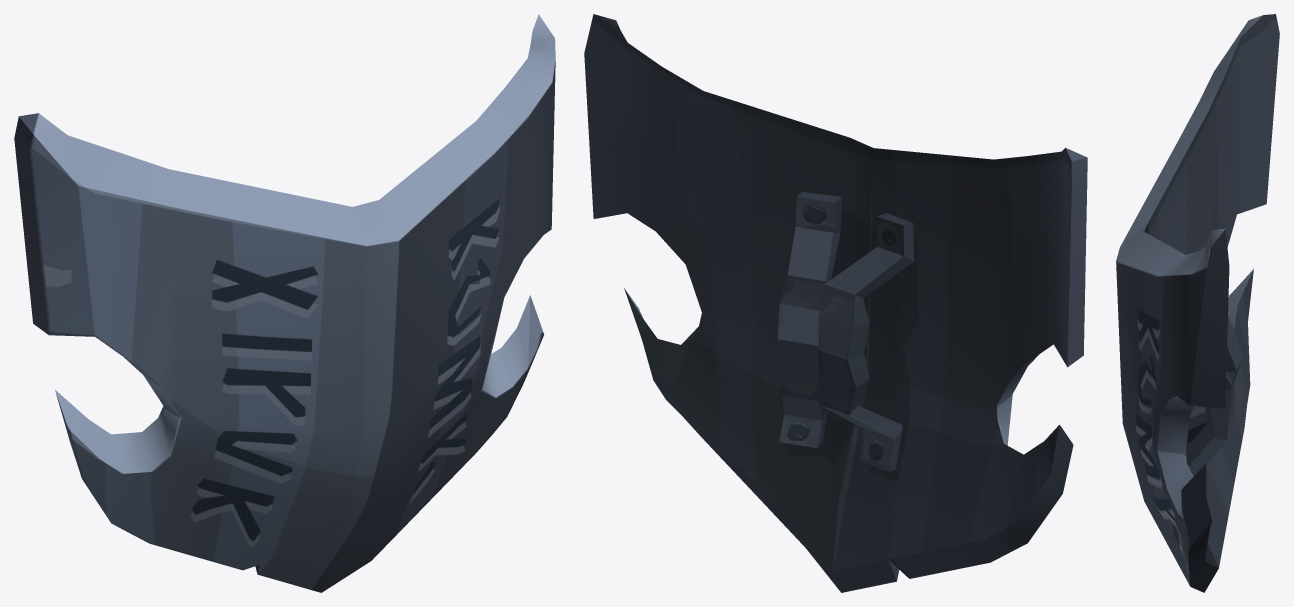
Rendered from Rune_05.FBX.
The picture shows the model from 3 angles, left to right: view 1: azimuth 30°, elevation 25°; view 2: azimuth 150°, elevation 25°; view 3: azimuth 270°, elevation 25°; orthographic projection. The views are drawn at different scales.
Visible parts, largest first — view 1: Rune_05; view 2: Rune_05; view 3: Rune_05.
Boxes of the visible parts, bbox=[...] form: Rune_05: bbox=[14, 14, 555, 592]; Rune_05: bbox=[584, 14, 1087, 592]; Rune_05: bbox=[1116, 14, 1279, 592].
Size of the model in its own units: 55.61 by 54.75 by 17.39.
